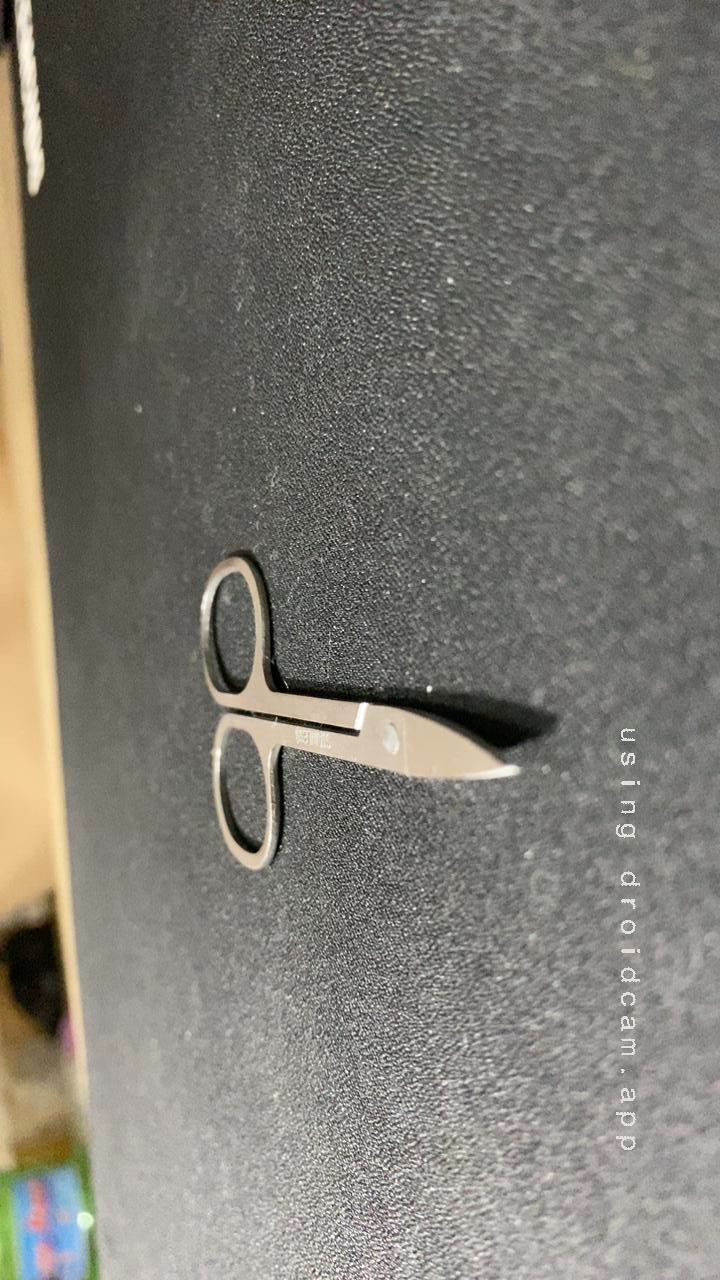scissor: (22, 519, 383, 891)
